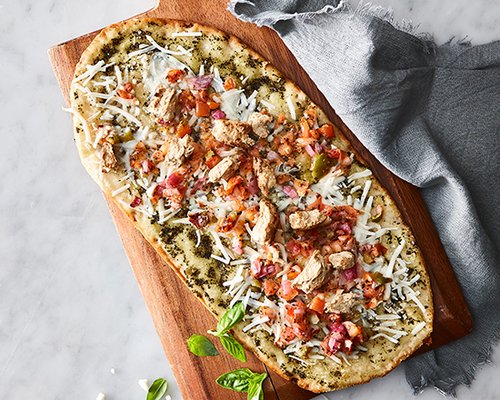sandwich: (64, 3, 467, 399)
